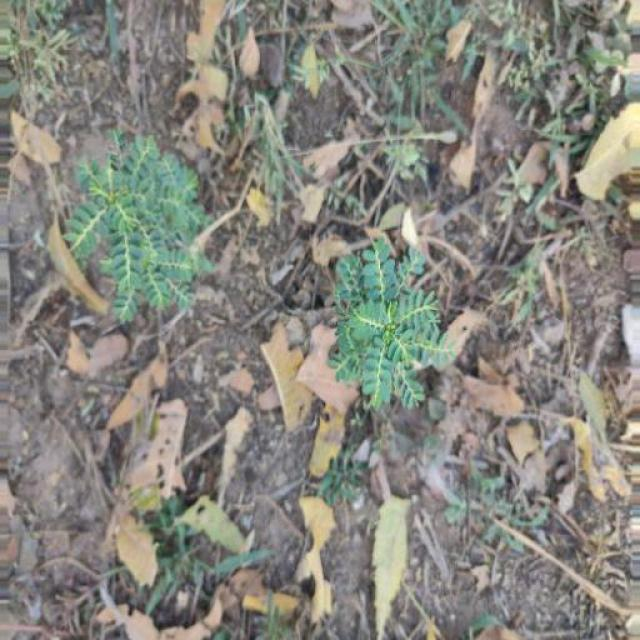weed: (62, 124, 206, 332), (328, 230, 448, 411)
